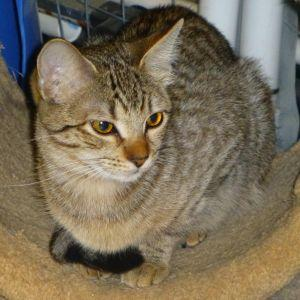bengal: (22, 15, 199, 190)
